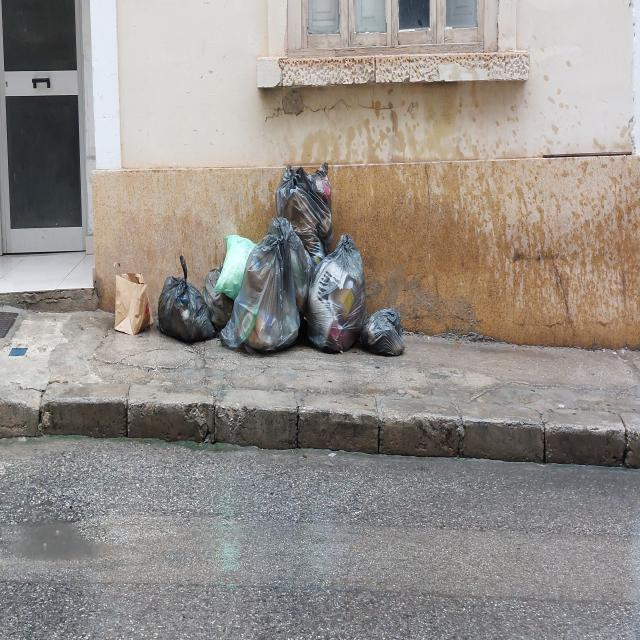Mixed Waste -Black Bag-: (222, 229, 313, 354), (310, 240, 367, 358), (277, 164, 334, 256), (159, 273, 218, 343), (363, 312, 408, 361)
Other: (112, 262, 156, 338)
Recycled Waste -Grey or Green Bag-: (216, 234, 258, 299)
